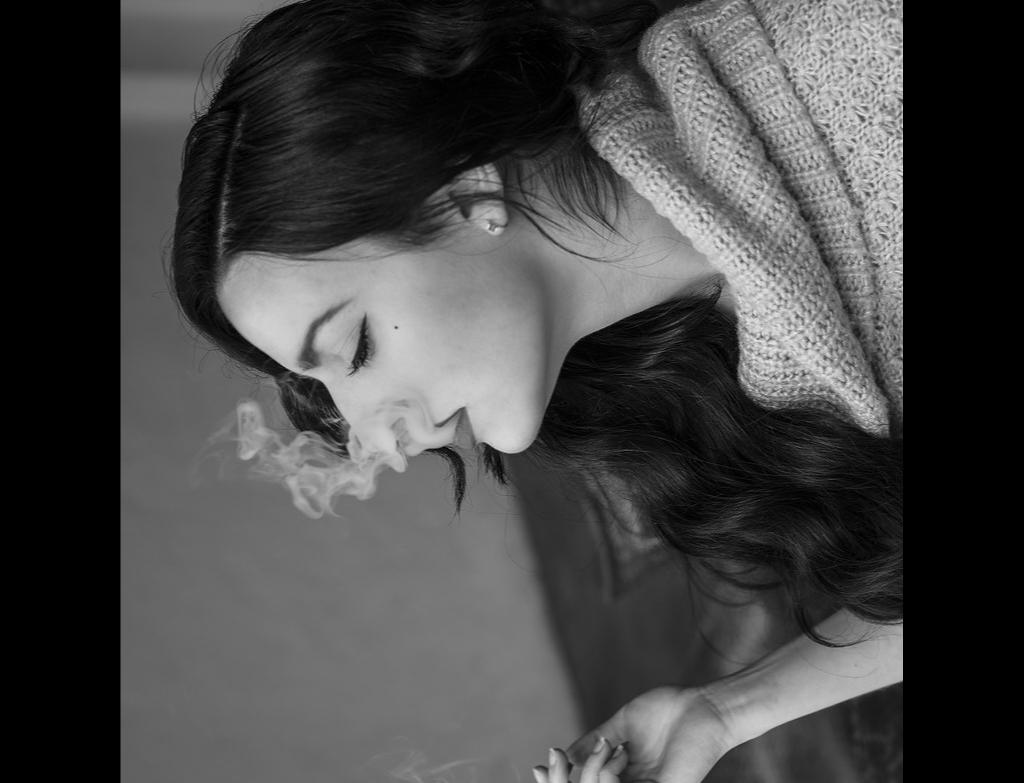Cigarette: (166, 0, 903, 783), (515, 758, 575, 783)
Smoke: (236, 398, 455, 512)
